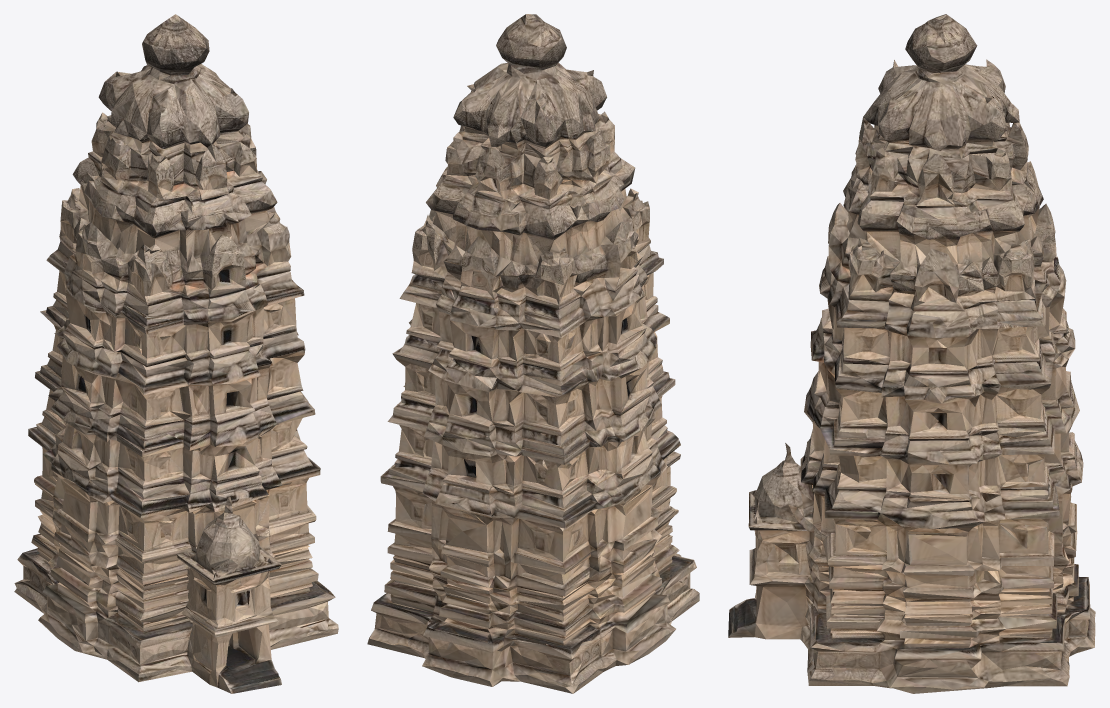
File: jagannath_tower.glb
3 views of the same model, side by side, from view 1: azimuth 30°, elevation 25°; view 2: azimuth 150°, elevation 25°; view 3: azimuth 270°, elevation 25° (orthographic). The views are drawn at different scales.
Parts seen in each view (by area): view 1: m; view 2: m; view 3: m.
Boxes of the visible parts, left/top/right/bottom form: m: left=14, top=14, right=338, bottom=693; m: left=367, top=14, right=699, bottom=693; m: left=728, top=14, right=1095, bottom=693.
Size of the model in its own units: 24.61 by 60 by 32.13.
1 material, 1 textured.
